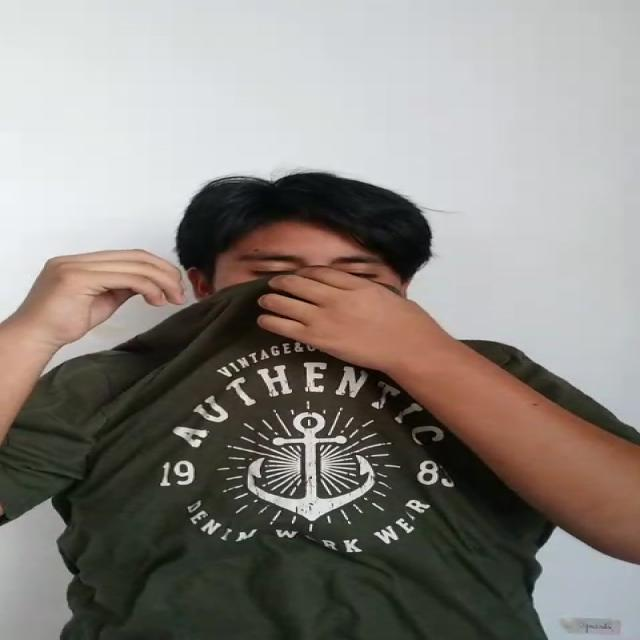8_ropa_rostro: (149, 270, 460, 407)
